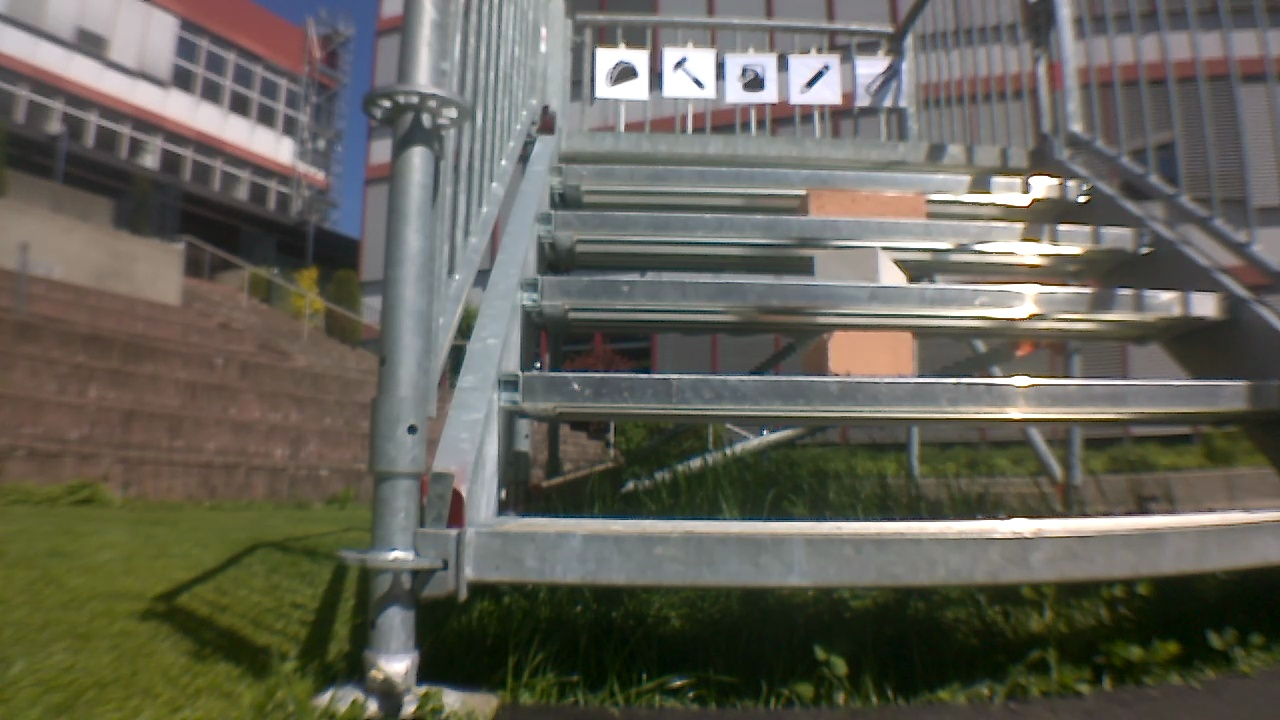brick: (810, 239, 911, 282), (826, 329, 915, 375), (806, 192, 931, 218)
edge: (471, 502, 1280, 586), (485, 373, 1280, 415), (535, 203, 1155, 251), (522, 283, 1226, 322), (554, 158, 1109, 204), (559, 130, 1049, 166)
stairs: (379, 0, 1280, 711)
steps: (425, 123, 1280, 596)
